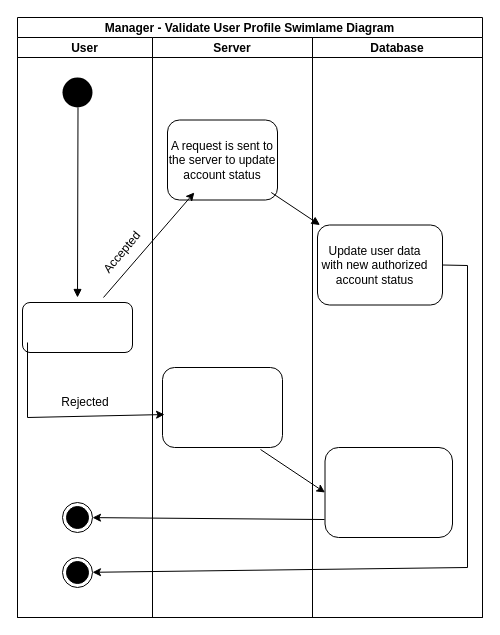
This 500x635 diagram has some shape labels left out. The shapes that lost their labels are listed below. From the top down, each one's box as (x1, y1, x2, y2) in pixels, then its label:
(22, 302, 132, 352): Manager validates user profile
(162, 366, 282, 448): A Request is sent to the server to delete account records
(324, 446, 452, 538): User profile is rejected and their account record in the database is deleted
